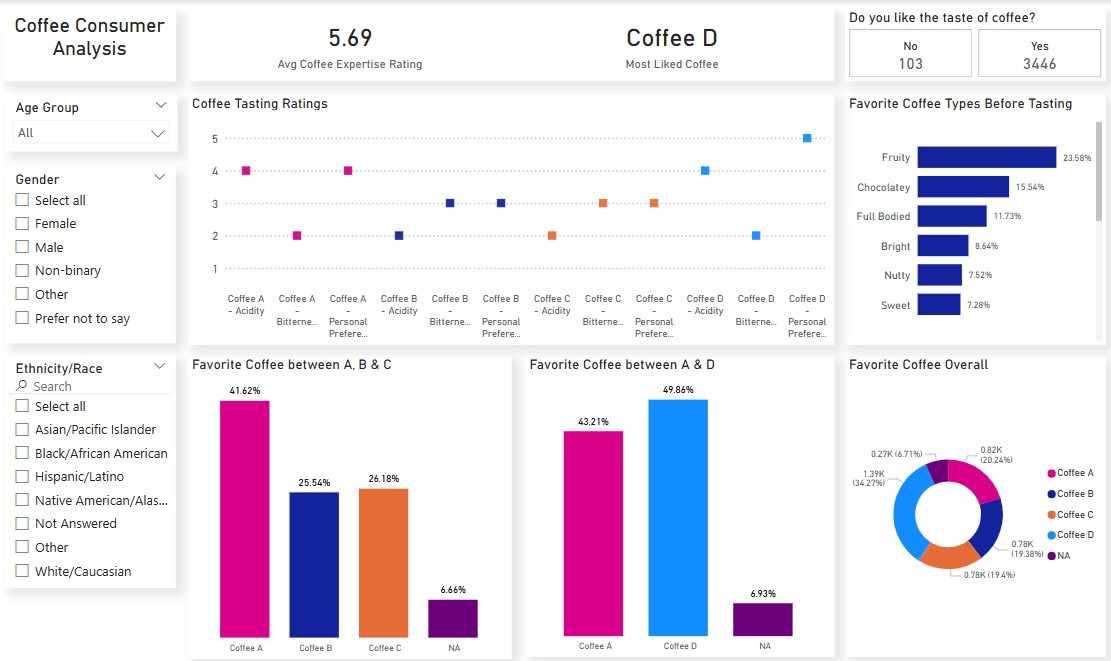

Layout of this report page (visuals, bound fields, positions):
{"tool":"powerbi","page":{"name":"Coffee Survey Analysis","canvas":[1380,820],"ordinal":2},"visuals":[{"type":"donutChart","title":"Favorite Coffee Overall","fields":{"Y":["CountNonNull(CoffeeData.Submission ID)"],"Series":["CoffeeData.Lastly, what was your favorite overall coffee?"]},"box":[1043.8,437.1,320.9,370.7],"z":0},{"type":"cardVisual","fields":{"Data":["CoffeeTableMeasures.AvgExpertise","CoffeeTableMeasures.MostLikedCoffee"]},"box":[236,11.1,794.8,88.5],"z":1000},{"type":"slicer","fields":{"Values":["CoffeeData.Gender"]},"box":[11.1,204.7,210.2,217.6],"z":2000},{"type":"slicer","fields":{"Values":["CoffeeData.Ethnicity/Race"]},"box":[11.1,437.1,210.2,285.8],"z":3000},{"type":"slicer","fields":{"Values":["CoffeeData.What is your age?"]},"box":[11.1,116.2,212.1,70.1],"z":4000},{"type":"advancedSlicerVisual","fields":{"Values":["CoffeeData.Do you like the taste of coffee?"]},"box":[1043.8,11.1,320.9,88.5],"z":5000},{"type":"barChart","title":"Favorite Coffee Types Before Tasting","fields":{"Category":["CoffeeData.Before today's tasting, which of the following best described what kind of coffee you like?"],"Y":["CountNonNull(CoffeeData.Submission ID)"]},"box":[1043.8,116.2,320.9,308],"z":6000},{"type":"clusteredColumnChart","title":"Favorite Coffee between A, B & C","fields":{"Y":["CountNonNull(CoffeeData.Submission ID)"],"Category":["CoffeeData.Between Coffee A, Coffee B, and Coffee C which did you prefer?"]},"box":[236,437.1,398.3,372.5],"z":7000},{"type":"clusteredColumnChart","title":"Favorite Coffee between A & D","fields":{"Y":["CountNonNull(CoffeeData.Submission ID)"],"Category":["CoffeeData.Between Coffee A and Coffee D, which did you prefer?"]},"box":[651,437.1,379.9,370.7],"z":8000},{"type":"scatterChart","title":"Coffee Tasting Ratings","fields":{"X":["cleaned_survey_data.Attribute"],"Y":["cleaned_survey_data.Taste Note Rating"]},"box":[236,116.2,794.8,308],"z":9000},{"type":"textbox","box":[9.2,11.1,212.1,88.5],"z":10000}]}

Visuals, with their boxes in screenshot pixels (x1, y1, x2, y2), scaled from the page's 1380x820 canvas onto the 1111x661 screenshot:
"Favorite Coffee Overall" donutChart: l=840, t=352, r=1099, b=651
cardVisual - CoffeeTableMeasures.AvgExpertise x CoffeeTableMeasures.MostLikedCoffee: l=190, t=9, r=830, b=80
slicer - CoffeeData.Gender: l=9, t=165, r=178, b=340
slicer - CoffeeData.Ethnicity/Race: l=9, t=352, r=178, b=583
slicer - CoffeeData.What is your age?: l=9, t=94, r=180, b=150
advancedSlicerVisual - CoffeeData.Do you like the taste of coffee?: l=840, t=9, r=1099, b=80
"Favorite Coffee Types Before Tasting" barChart: l=840, t=94, r=1099, b=342
"Favorite Coffee between A, B & C" clusteredColumnChart: l=190, t=352, r=511, b=653
"Favorite Coffee between A & D" clusteredColumnChart: l=524, t=352, r=830, b=651
"Coffee Tasting Ratings" scatterChart: l=190, t=94, r=830, b=342
textbox: l=7, t=9, r=178, b=80
